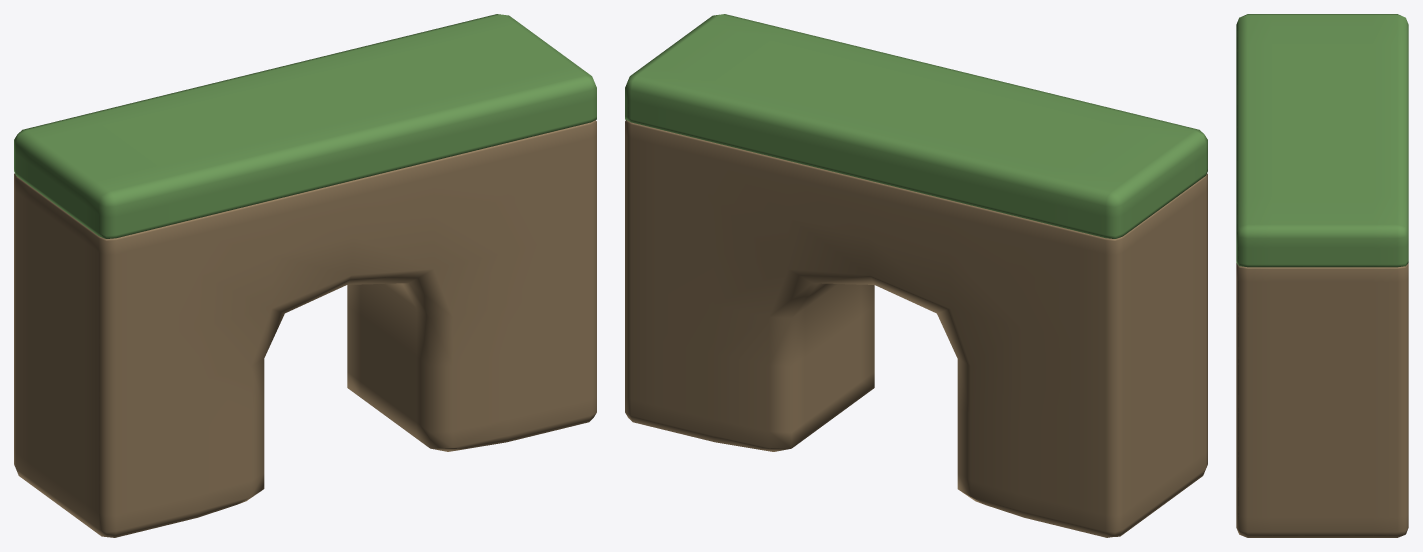
File: puente.fbx
3 views of the same model, side by side, from view 1: azimuth 30°, elevation 25°; view 2: azimuth 150°, elevation 25°; view 3: azimuth 270°, elevation 25° (orthographic). The views are drawn at different scales.
Parts seen in each view (by area): view 1: pCube2; view 2: pCube2; view 3: pCube2.
Boxes of the visible parts, left/top/right/bottom form: pCube2: left=14, top=14, right=596, bottom=537; pCube2: left=625, top=14, right=1207, bottom=537; pCube2: left=1236, top=14, right=1408, bottom=537.
Size of the model in its own units: 12 by 8 by 4.
